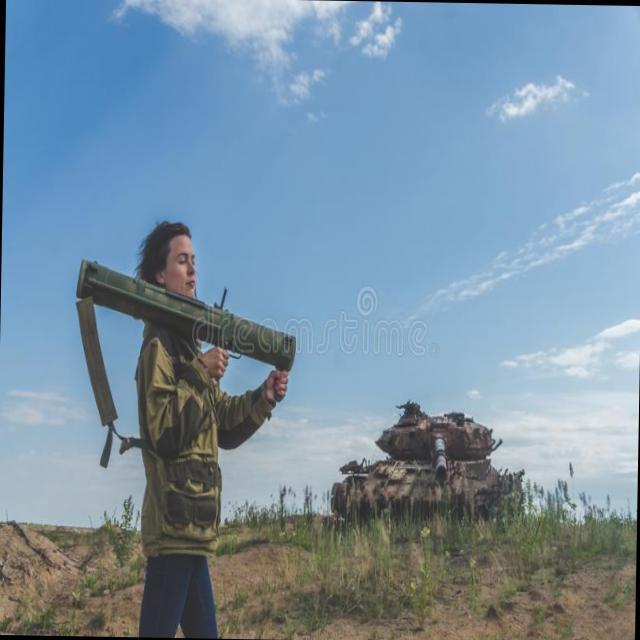rocket: (72, 251, 298, 371)
